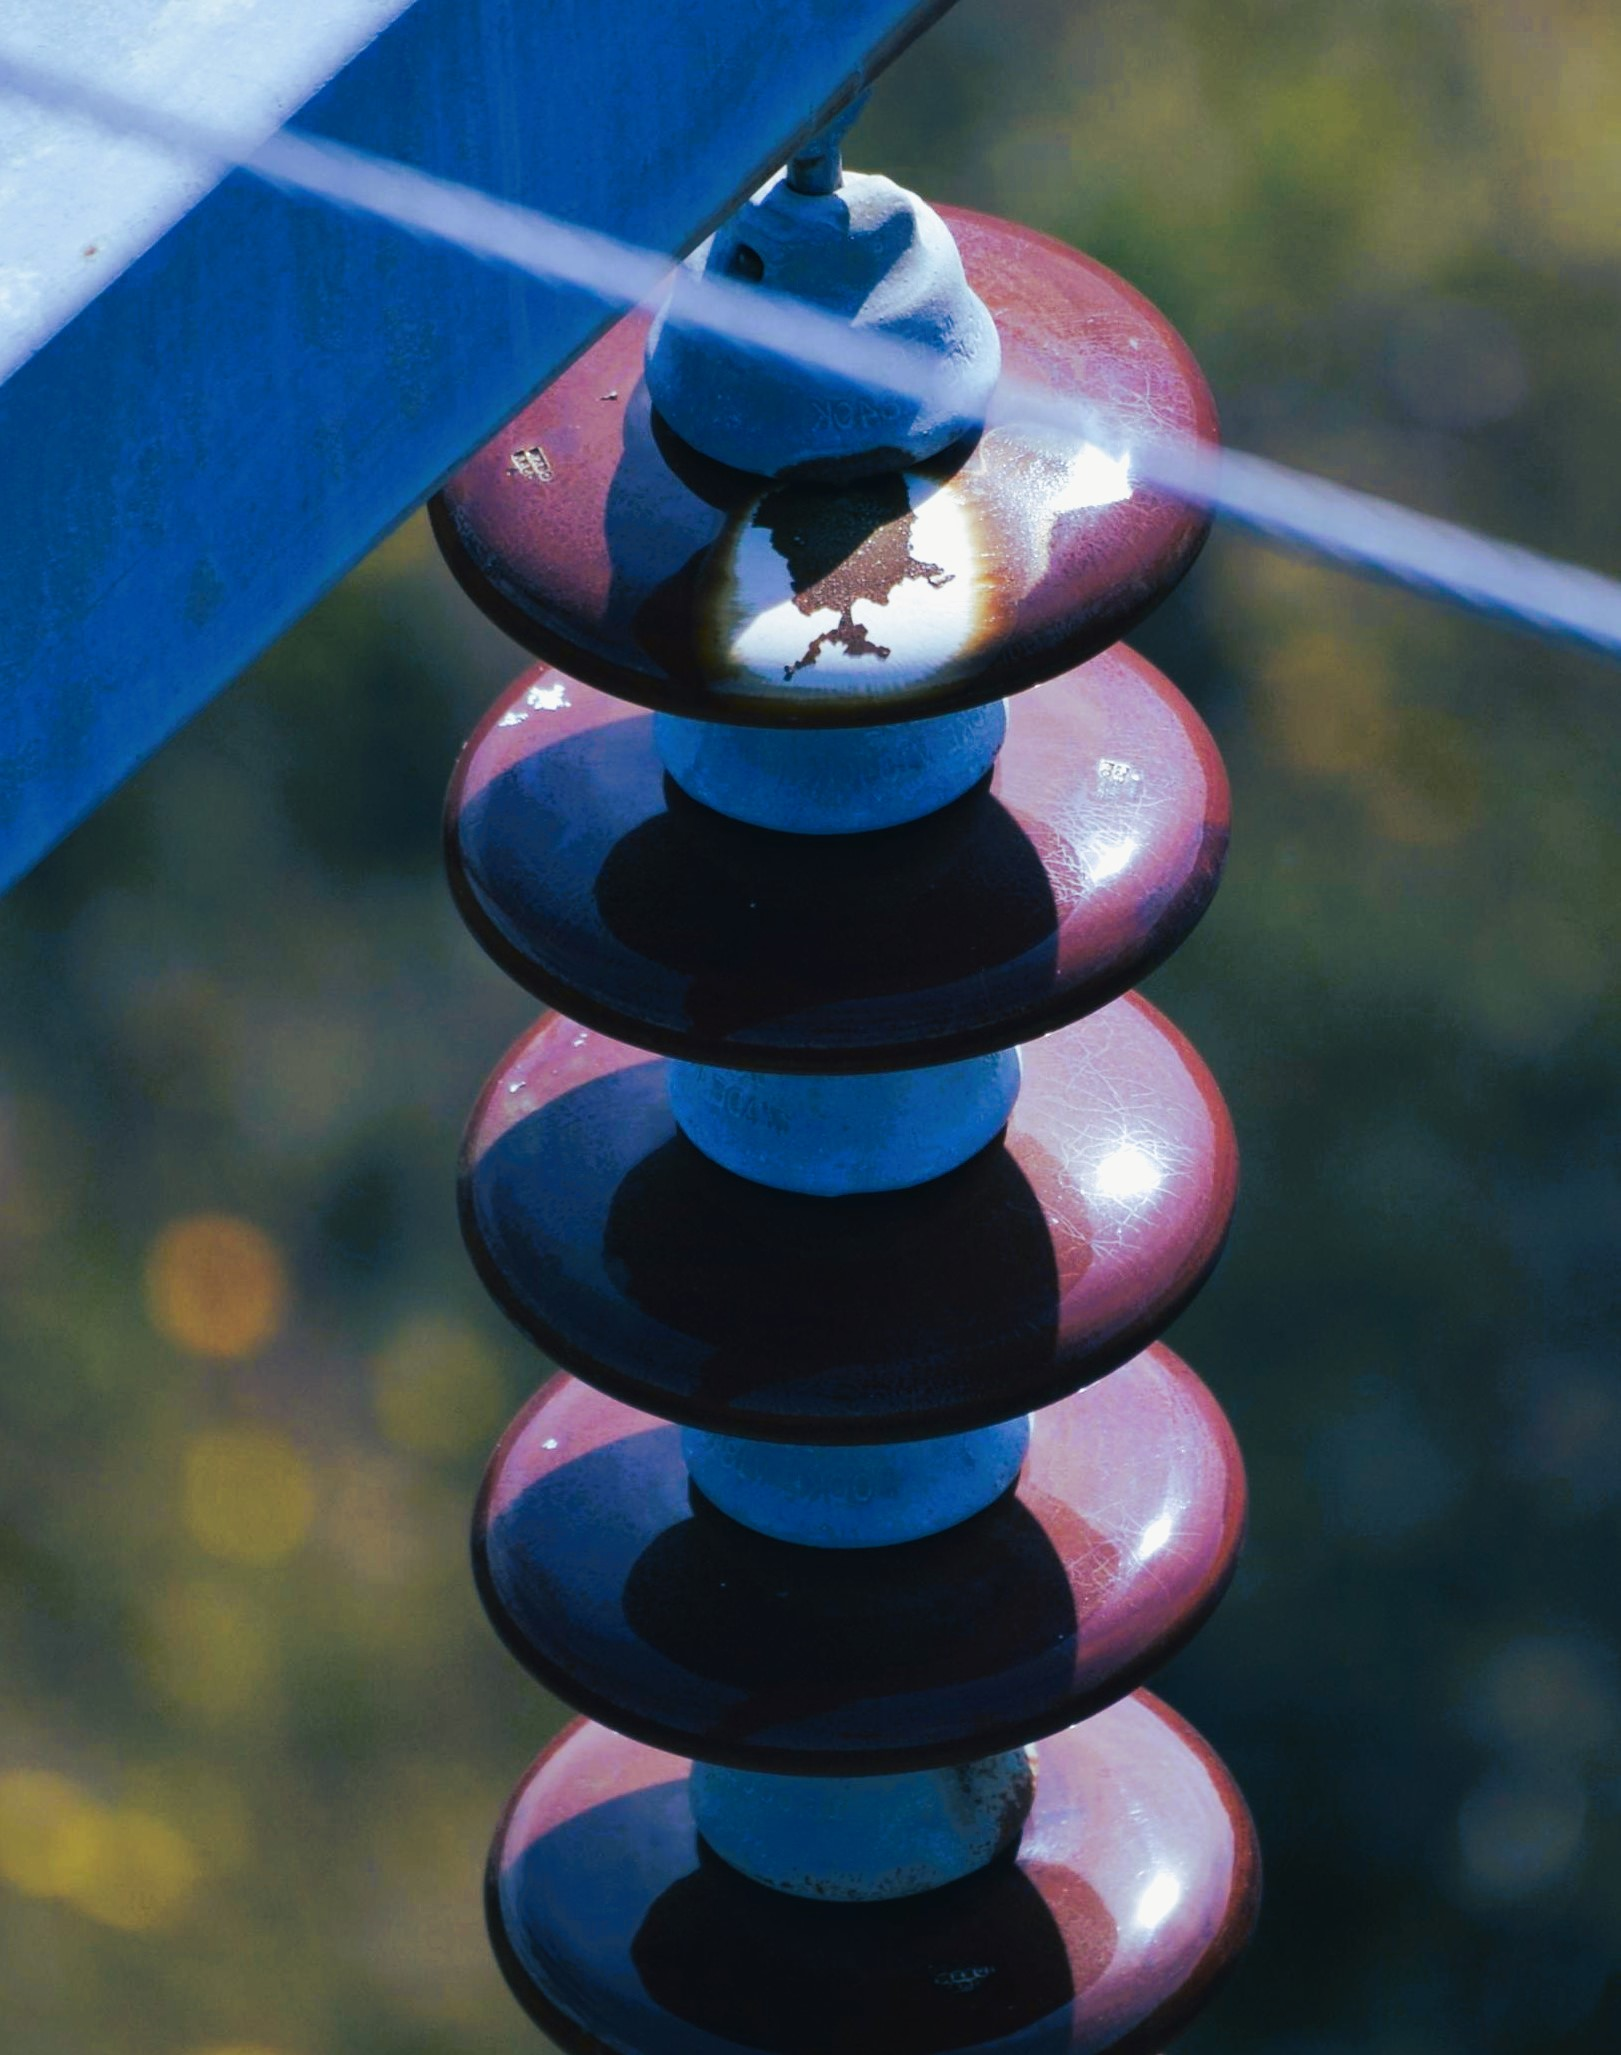Insulator flashover: (409, 153, 1222, 746)
